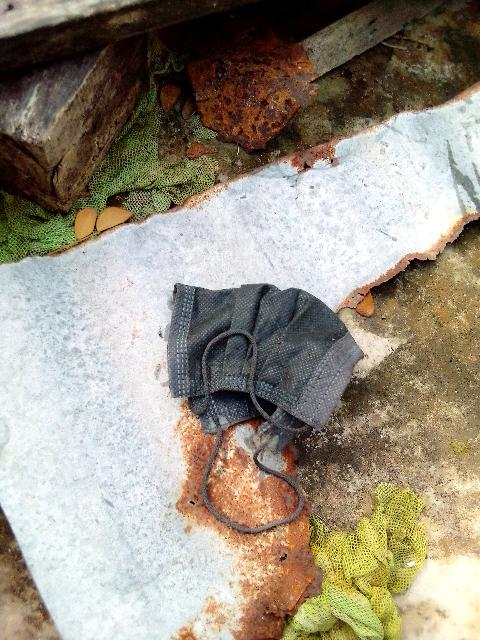mask: (171, 239, 361, 464)
